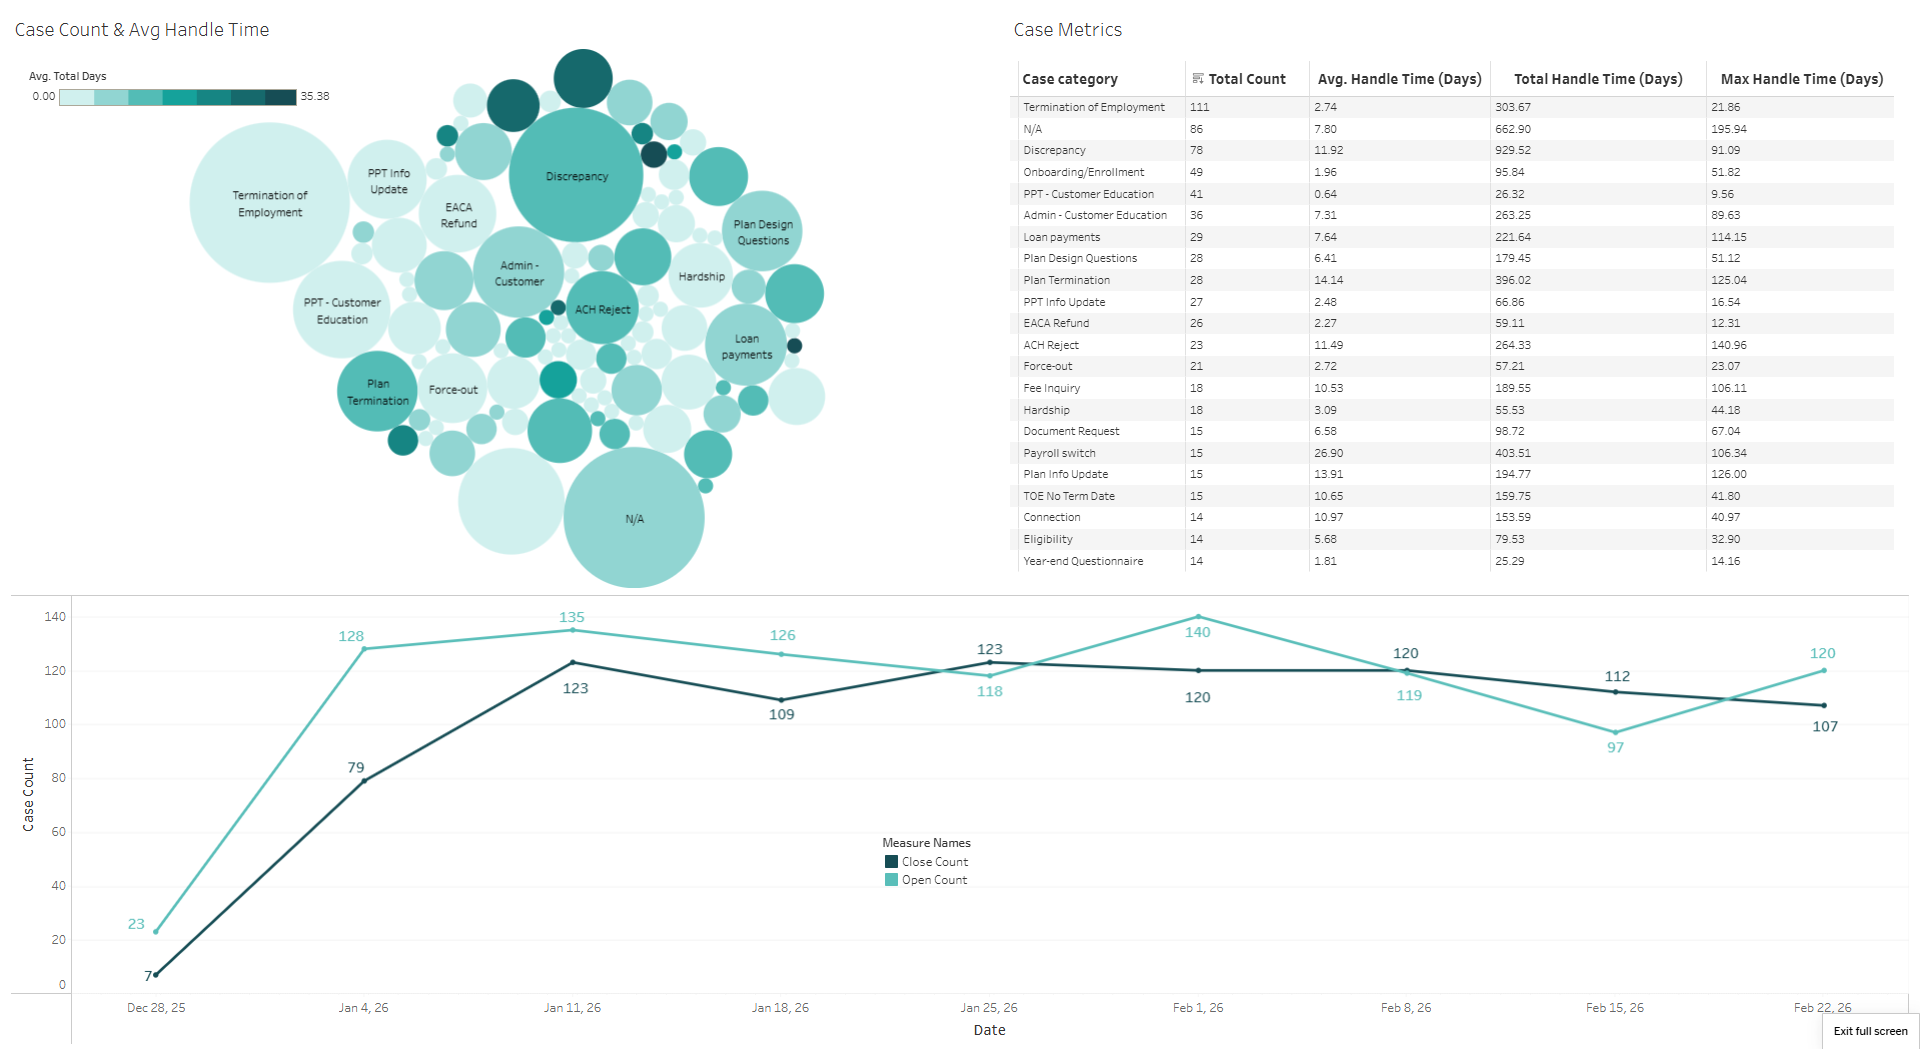

The page's visual inventory and layout, read from the dashboard file:
{"tool":"tableau","page":{"name":"Dashboard 1","canvas":[1000,1000],"units":"permille","ordinal":0},"visuals":[{"type":"worksheet","title":"Case Count & Avg Handle Time","mark":"Circle","box":[4.7,8.9,519.6,551.3]},{"type":"worksheet","title":"Case Metrics","mark":"VizExtension","box":[524.3,8.9,471,551.3]},{"type":"legend","title":"Case Count & Avg Handle Time","param":"[federated.028cenf1rieumh1fyn1gq0j88dq8].[avg:Calculation_0200145004564480:qk]","box":[15,63.8,159,95]},{"type":"worksheet","title":"Closed vs Open Timeline","mark":"Automatic","rows":["close_count","open_count"],"cols":["date_day"],"box":[4.7,560.3,990.6,430.8]},{"type":"legend","title":"Closed vs Open Timeline","param":"[federated.028cenf1rieumh1fyn1gq0j88dq8].[:Measure Names]","box":[459.3,790.2,139.8,74.8]}]}

Visuals, with their boxes on the dashboard's canvas, which has no fixed pixel size, in thousandths of its width and height (x1, y1, x2, y2). These are canvas units, not pixel positions in the 1920x1049 screenshot, which may show the page scaled, cropped or inside an application window:
"Case Count & Avg Handle Time" worksheet (Circle marks): [5,9,524,560]
"Case Metrics" worksheet (VizExtension marks): [524,9,995,560]
"Case Count & Avg Handle Time" legend: [15,64,174,159]
"Closed vs Open Timeline" worksheet: [5,560,995,991]
"Closed vs Open Timeline" legend: [459,790,599,865]
